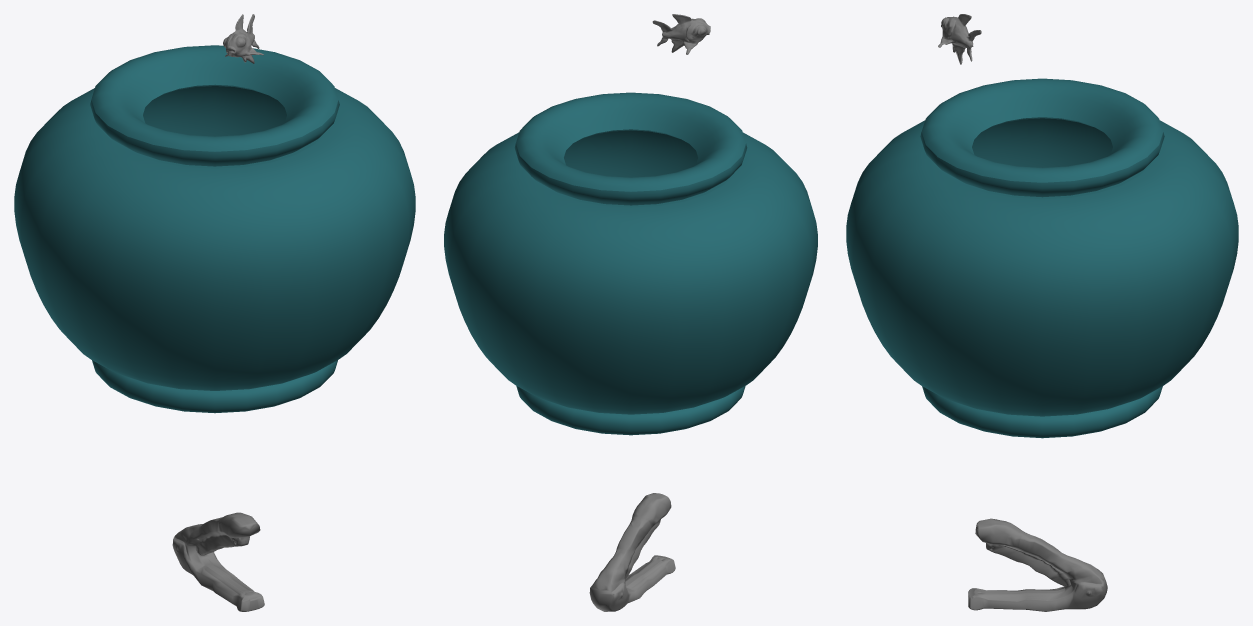
File: FishBowlEasyEdits.obj
The picture shows the model from 3 angles, left to right: view 1: azimuth 30°, elevation 25°; view 2: azimuth 150°, elevation 25°; view 3: azimuth 270°, elevation 25°; orthographic projection. The views are drawn at different scales.
Parts seen in each view (by area): view 1: FixingMaya:fishbowl, FixingMaya:Stapler1, FixingMaya:Fish; view 2: FixingMaya:fishbowl, FixingMaya:Stapler1, FixingMaya:Fish; view 3: FixingMaya:fishbowl, FixingMaya:Stapler1, FixingMaya:Fish.
Boxes of the visible parts, bbox=[...] form: FixingMaya:fishbowl: bbox=[14, 45, 415, 413]; FixingMaya:Stapler1: bbox=[172, 512, 264, 611]; FixingMaya:Fish: bbox=[223, 14, 263, 63]; FixingMaya:fishbowl: bbox=[444, 92, 817, 435]; FixingMaya:Stapler1: bbox=[589, 493, 675, 611]; FixingMaya:Fish: bbox=[652, 14, 710, 54]; FixingMaya:fishbowl: bbox=[846, 78, 1238, 438]; FixingMaya:Stapler1: bbox=[968, 518, 1107, 611]; FixingMaya:Fish: bbox=[938, 14, 981, 64].
Size of the model in its own units: 28.35 by 46.87 by 28.35.
